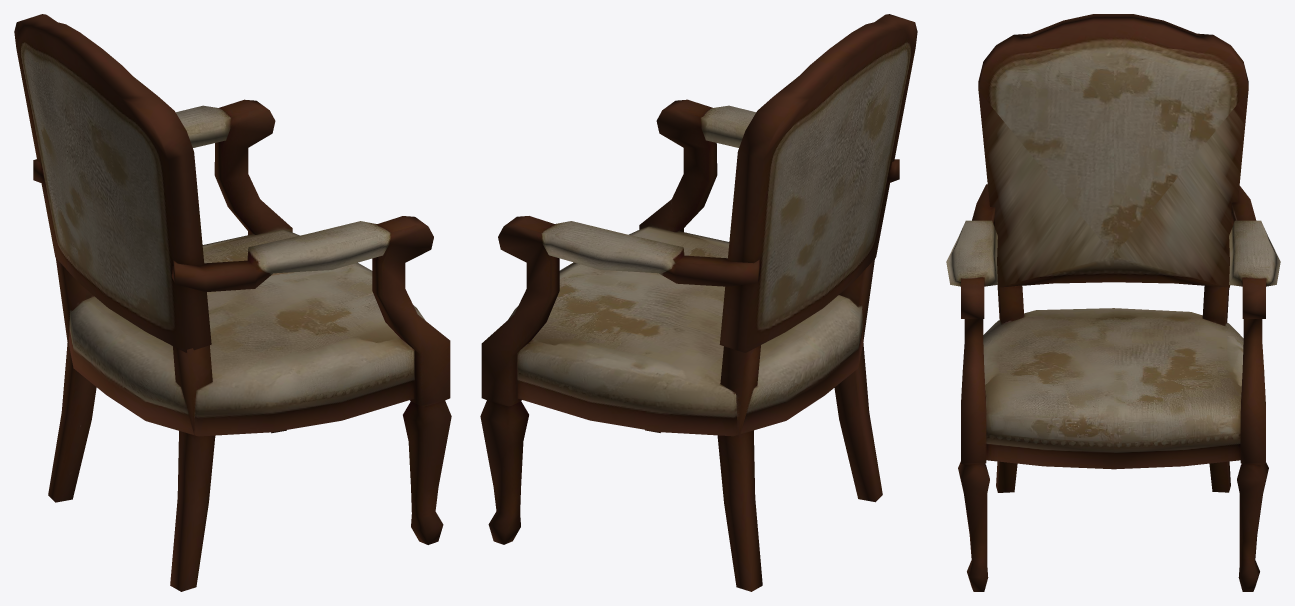
Rendered from Furn_Chair_Armchair.glb.
The picture shows the model from 3 angles, left to right: view 1: azimuth 30°, elevation 25°; view 2: azimuth 150°, elevation 25°; view 3: azimuth 270°, elevation 25°; orthographic projection. The views are drawn at different scales.
Visible parts, largest first — view 1: tripo_node_299de07a-5f8c-4dab-b992-20771bb92f2a; view 2: tripo_node_299de07a-5f8c-4dab-b992-20771bb92f2a; view 3: tripo_node_299de07a-5f8c-4dab-b992-20771bb92f2a.
Part boxes in pixels (bbox=[...]): tripo_node_299de07a-5f8c-4dab-b992-20771bb92f2a: bbox=[14, 14, 451, 591]; tripo_node_299de07a-5f8c-4dab-b992-20771bb92f2a: bbox=[480, 14, 917, 591]; tripo_node_299de07a-5f8c-4dab-b992-20771bb92f2a: bbox=[946, 14, 1280, 591].
Size of the model in its own units: 0.6228 by 0.95 by 0.6377.
1 material, 1 textured.
